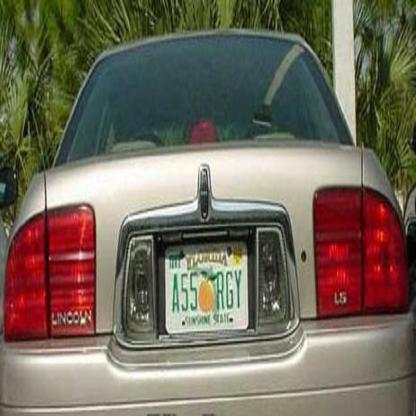License-Plate: (165, 227, 252, 343)
